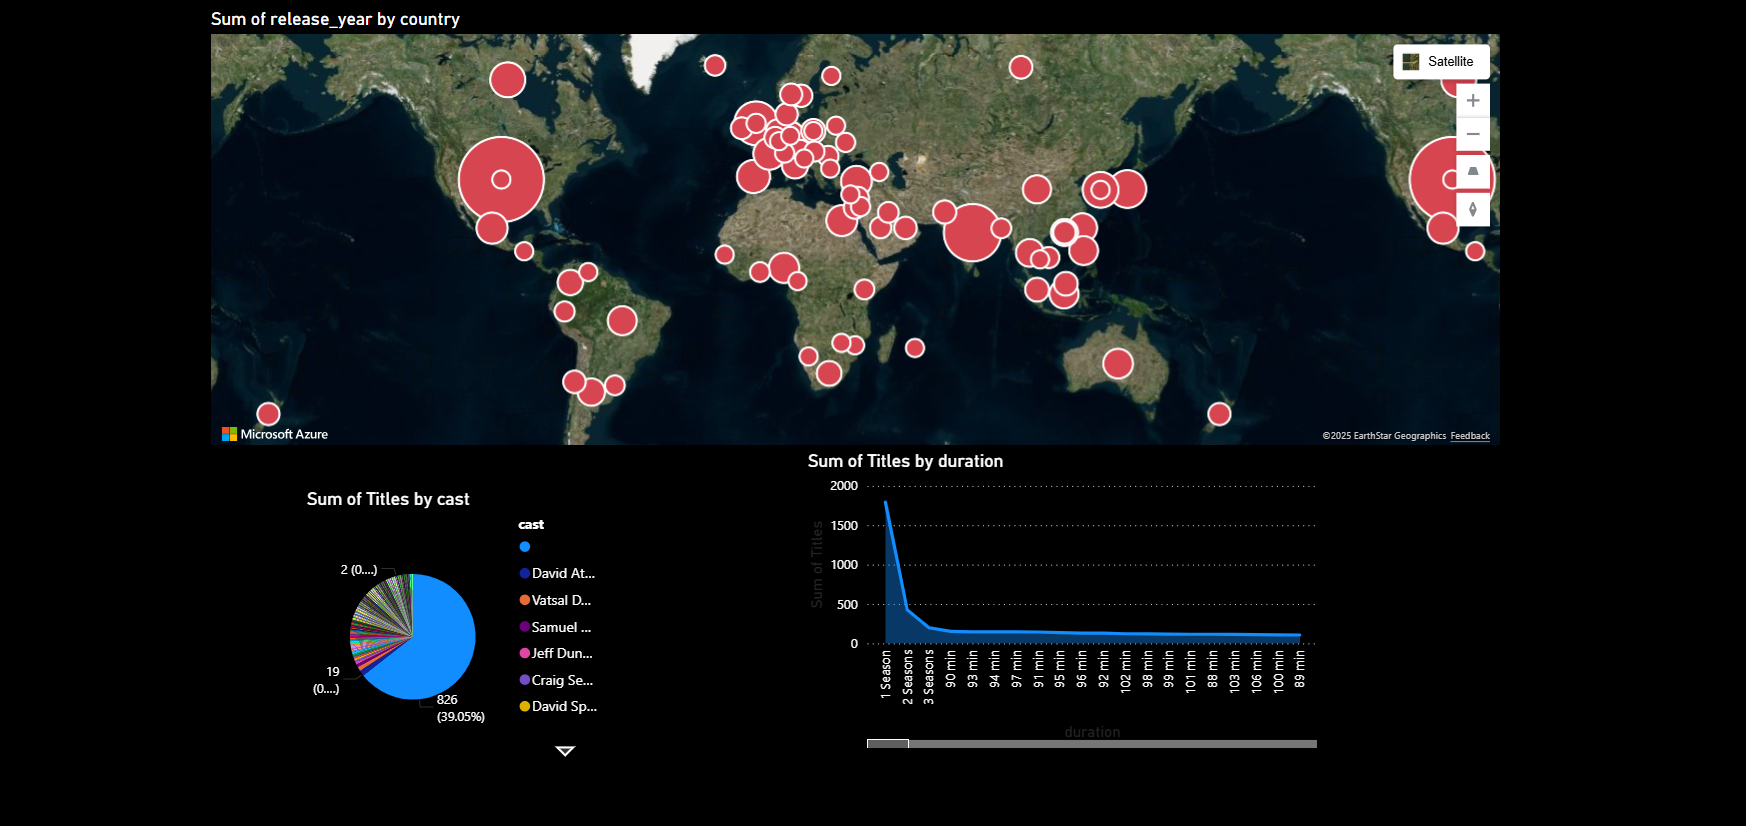

The dashboard page shown, as its layout file describes it:
{"tool":"powerbi","page":{"name":"Netflix Description","canvas":[1280,720],"ordinal":1},"visuals":[{"type":"azureMap","fields":{"Category":["netflix_titles.country"],"Size":["netflix_titles.release_year"]},"box":[10,0,1238.3,421.7],"z":0},{"type":"stackedAreaChart","fields":{"Category":["netflix_titles.duration"],"Y":["netflix_titles.Titles"]},"box":[578.3,421.7,495,288.3],"z":1000},{"type":"pieChart","fields":{"Category":["netflix_titles.cast"],"Y":["netflix_titles.Titles"]},"box":[101.7,456.7,298.3,263.3],"z":1001}]}

Visuals, with their boxes on the page's 1280x720 design canvas (x1, y1, x2, y2). These are canvas units, not pixel positions in the 1746x826 screenshot, which may show the page scaled, cropped or inside an application window:
azureMap - netflix_titles.country x netflix_titles.release_year: locate(10, 0, 1248, 422)
stackedAreaChart - netflix_titles.duration x netflix_titles.Titles: locate(578, 422, 1073, 710)
pieChart - netflix_titles.cast x netflix_titles.Titles: locate(102, 457, 400, 720)
